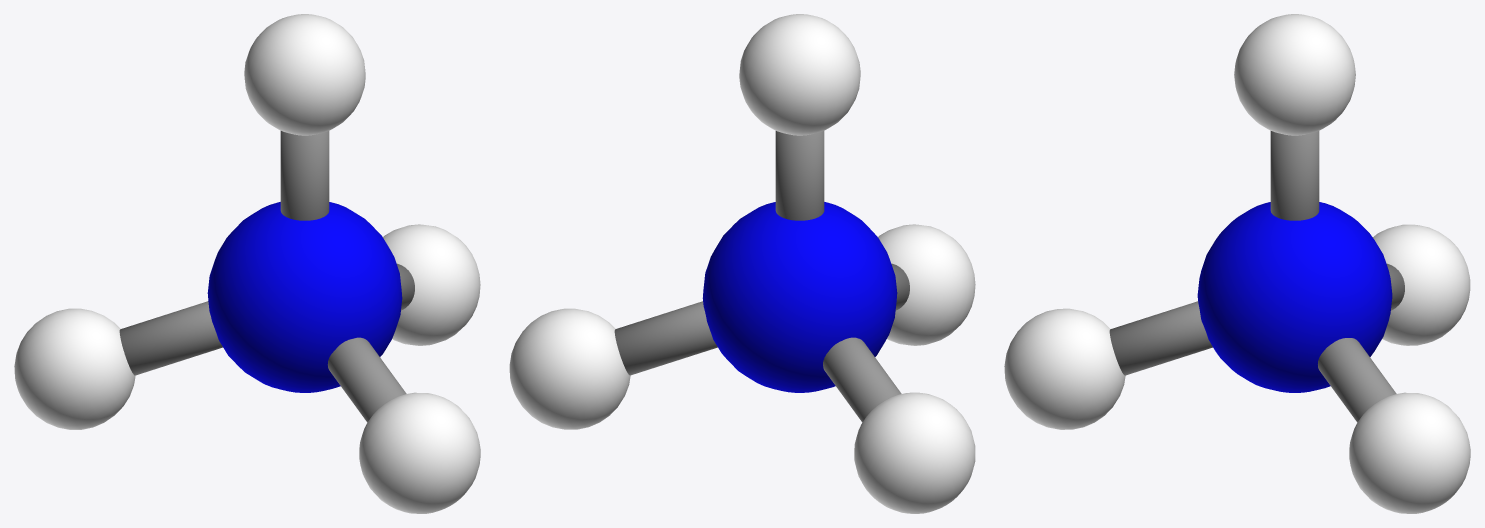
The model's file is methane.fbx.
3 renders of one model, left to right at view 1: azimuth 30°, elevation 25°; view 2: azimuth 150°, elevation 25°; view 3: azimuth 270°, elevation 25°, orthographic.
Visible parts, largest first — view 1: Sphere, hydrogen, hydrogen.001, hydrogen.003, hydrogen.002, bond.003, bond, bond.001; view 2: Sphere, hydrogen.003, hydrogen, hydrogen.002, hydrogen.001, bond.002, bond, bond.003; view 3: Sphere, hydrogen, hydrogen.002, hydrogen.001, hydrogen.003, bond.001, bond, bond.002.
Boxes of the visible parts, x1,y1,x2,y2 form: Sphere: (207,202,402,392); hydrogen: (244,14,365,135); hydrogen.001: (359,392,480,513); hydrogen.003: (14,308,135,429); hydrogen.002: (383,224,480,345); bond.003: (119,301,222,375); bond: (280,131,329,220); bond.001: (327,337,406,422); Sphere: (702,202,897,392); hydrogen.003: (854,392,975,513); hydrogen: (739,14,860,135); hydrogen.002: (509,308,630,429); hydrogen.001: (878,224,975,345); bond.002: (614,301,717,375); bond: (775,131,824,220); bond.003: (823,337,901,422); Sphere: (1197,202,1392,392); hydrogen: (1234,14,1355,135); hydrogen.002: (1349,392,1470,513); hydrogen.001: (1004,308,1125,429); hydrogen.003: (1373,224,1470,345); bond.001: (1109,301,1212,375); bond: (1270,131,1319,220); bond.002: (1318,338,1396,422).
Bounding box in the file's own units: 426 × 367 × 383.
